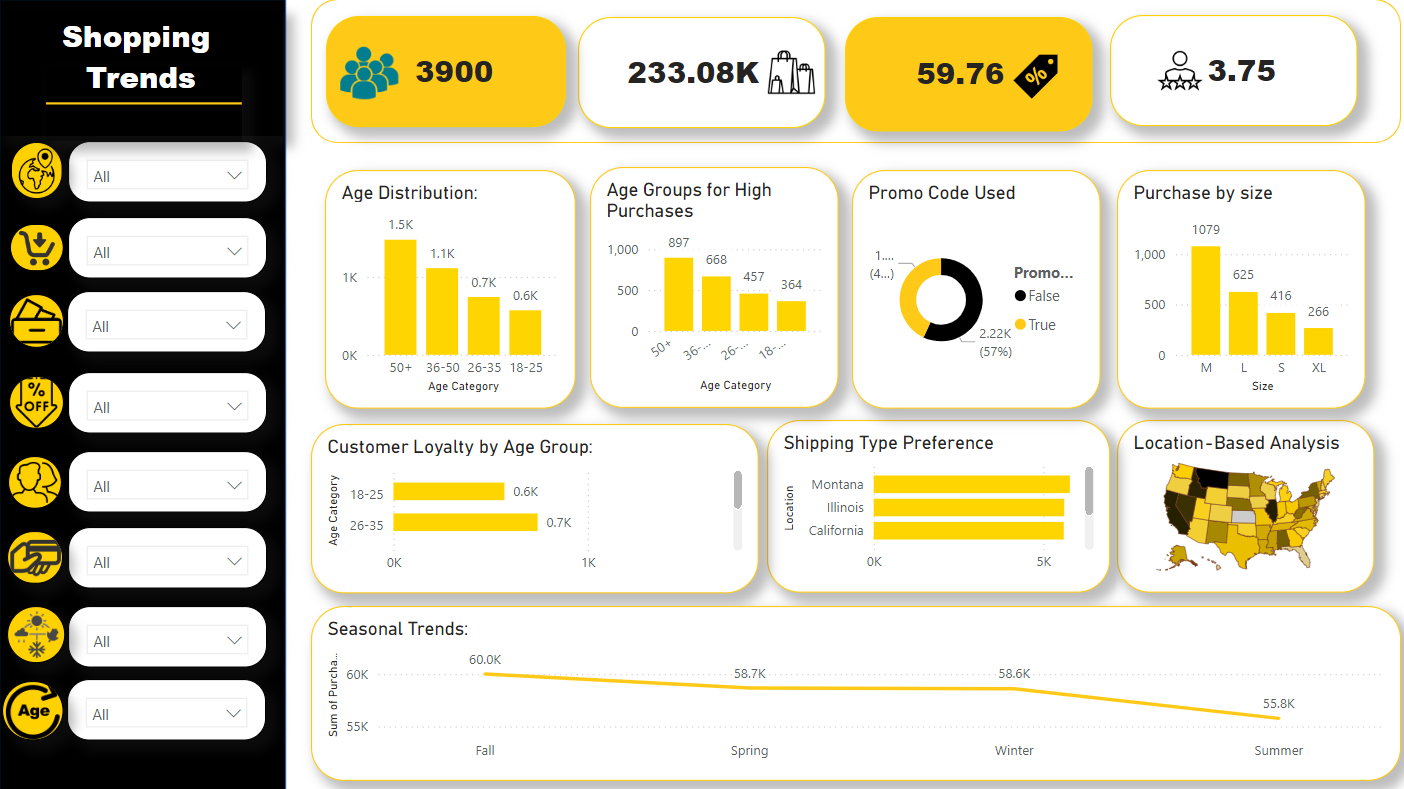

Layout of this report page (visuals, bound fields, positions):
{"tool":"powerbi","page":{"name":"Dashboard","canvas":[1280,720],"ordinal":0},"visuals":[{"type":"shape","box":[284,0,991,131],"z":0},{"type":"shape","box":[0,0,261,720],"z":1000},{"type":"textbox","box":[0,10,258.2,115.5],"z":2000},{"type":"slicer","fields":{"Values":["ShoppingTrends.Location"]},"box":[63,129,181,56],"z":3000},{"type":"image","box":[12,131,45,50],"z":4000},{"type":"slicer","fields":{"Values":["ShoppingTrends.Item_Purchased"]},"box":[63,198,181,56],"z":5000},{"type":"image","box":[11,205,47,41],"z":6000},{"type":"slicer","fields":{"Values":["ShoppingTrends.Category"]},"box":[62,265,181,56],"z":7000},{"type":"image","box":[9,268,50,49],"z":8000},{"type":"slicer","fields":{"Values":["ShoppingTrends.Discount_Applied"]},"box":[63,339,181,56],"z":9000},{"type":"image","box":[9,343,50,48],"z":10000},{"type":"slicer","fields":{"Values":["ShoppingTrends.Gender"]},"box":[63,411,181,56],"z":11000},{"type":"image","box":[8,415,49,48],"z":12000},{"type":"slicer","fields":{"Values":["ShoppingTrends.Payment_Method"]},"box":[63,480,181,56],"z":13000},{"type":"image","box":[7,484,51,48],"z":14000},{"type":"slicer","fields":{"Values":["ShoppingTrends.Season","ShoppingTrends.Age Category"]},"box":[63,552,181,56],"z":15000},{"type":"image","box":[7,552,53,52],"z":16000},{"type":"slicer","fields":{"Values":["ShoppingTrends.Age Category"]},"box":[62,618,181,56],"z":17000},{"type":"image","box":[3,620,56,54],"z":18000},{"type":"card","fields":{"Values":["ShoppingTrends.Total Purchase Amount"]},"box":[526,16,225,101],"z":19000},{"type":"card","fields":{"Values":["CountNonNull(ShoppingTrends.Customer_ID)"]},"box":[297,15,218,101],"z":20000},{"type":"image","box":[294,35,85,63],"z":21000},{"type":"image","box":[691,40,58,53],"z":22000},{"type":"card","fields":{"Values":["Avg(ShoppingTrends.Review_Ratings)"]},"box":[1010,14.5,224.5,100.9],"z":23000},{"type":"card","fields":{"Values":["Avg(ShoppingTrends.Purchase_Amount(USD))"]},"box":[769.1,16.4,224.5,103.6],"z":24000},{"type":"shapeMap","title":"Location-Based Analysis","fields":{"Category":["ShoppingTrends.Location"],"Value":["Sum(ShoppingTrends.Purchase_Amount(USD))"]},"box":[1016,383,234,157],"z":25000},{"type":"barChart","title":"Shipping Type Preference","fields":{"Category":["ShoppingTrends.Location"],"Y":["Sum(ShoppingTrends.Purchase_Amount(USD))"]},"box":[698,383,312,157],"z":26000},{"type":"shape","box":[43,61,178,68],"z":27000},{"type":"columnChart","title":"Age Distribution:","fields":{"Category":["ShoppingTrends.Age Category"],"Y":["CountNonNull(ShoppingTrends.Customer_ID)"]},"box":[296,155,228,217],"z":28000},{"type":"lineClusteredColumnComboChart","title":"Age Groups for High Purchases","fields":{"Category":["ShoppingTrends.Age Category"],"Y":["ShoppingTrends.HighValue_Purchases"]},"box":[537,153,226,219],"z":29000},{"type":"clusteredBarChart","title":"Customer Loyalty by Age Group:","fields":{"Category":["ShoppingTrends.Age Category"],"Y":["CountNonNull(ShoppingTrends.Previous_Purchases)"]},"box":[284,386,407,154],"z":30000},{"type":"lineChart","title":"Seasonal Trends:","fields":{"Category":["ShoppingTrends.Season"],"Y":["Sum(ShoppingTrends.Purchase_Amount(USD))"]},"box":[284,552,991,159],"z":31000},{"type":"donutChart","title":"Promo Code Used ","fields":{"Category":["ShoppingTrends.Promo_Code_Used"],"Y":["CountNonNull(ShoppingTrends.Purchase_Amount(USD))"]},"box":[775,155,226,217],"z":32000},{"type":"lineClusteredColumnComboChart","title":"Purchase by size","fields":{"Category":["ShoppingTrends.Size"],"Y":["ShoppingTrends.HighValue_Purchases"]},"box":[1016,155,226,217],"z":33000},{"type":"image","box":[1048.2,38.2,50.9,54.5],"z":33001},{"type":"image","box":[917.3,43.6,50,54.5],"z":33002}]}

Visuals, with their boxes in screenshot pixels (x1, y1, x2, y2), scaled from the page's 1280x720 canvas onto the 1404x789 screenshot:
shape: pyautogui.locateOnScreen(312, 0, 1399, 144)
shape: pyautogui.locateOnScreen(0, 0, 286, 788)
textbox: pyautogui.locateOnScreen(0, 11, 283, 138)
slicer - ShoppingTrends.Location: pyautogui.locateOnScreen(69, 141, 268, 203)
image: pyautogui.locateOnScreen(13, 144, 63, 198)
slicer - ShoppingTrends.Item_Purchased: pyautogui.locateOnScreen(69, 217, 268, 278)
image: pyautogui.locateOnScreen(12, 225, 64, 270)
slicer - ShoppingTrends.Category: pyautogui.locateOnScreen(68, 290, 267, 352)
image: pyautogui.locateOnScreen(10, 294, 65, 347)
slicer - ShoppingTrends.Discount_Applied: pyautogui.locateOnScreen(69, 371, 268, 433)
image: pyautogui.locateOnScreen(10, 376, 65, 428)
slicer - ShoppingTrends.Gender: pyautogui.locateOnScreen(69, 450, 268, 512)
image: pyautogui.locateOnScreen(9, 455, 63, 507)
slicer - ShoppingTrends.Payment_Method: pyautogui.locateOnScreen(69, 526, 268, 587)
image: pyautogui.locateOnScreen(8, 530, 64, 583)
slicer - ShoppingTrends.Season x ShoppingTrends.Age Category: pyautogui.locateOnScreen(69, 605, 268, 666)
image: pyautogui.locateOnScreen(8, 605, 66, 662)
slicer - ShoppingTrends.Age Category: pyautogui.locateOnScreen(68, 677, 267, 739)
image: pyautogui.locateOnScreen(3, 679, 65, 739)
card - ShoppingTrends.Total Purchase Amount: pyautogui.locateOnScreen(577, 18, 824, 128)
card - CountNonNull(ShoppingTrends.Customer_ID): pyautogui.locateOnScreen(326, 16, 565, 127)
image: pyautogui.locateOnScreen(322, 38, 416, 107)
image: pyautogui.locateOnScreen(758, 44, 822, 102)
card - Avg(ShoppingTrends.Review_Ratings): pyautogui.locateOnScreen(1108, 16, 1354, 126)
card - Avg(ShoppingTrends.Purchase_Amount(USD)): pyautogui.locateOnScreen(844, 18, 1090, 132)
"Location-Based Analysis" shapeMap: pyautogui.locateOnScreen(1114, 420, 1371, 592)
"Shipping Type Preference" barChart: pyautogui.locateOnScreen(766, 420, 1108, 592)
shape: pyautogui.locateOnScreen(47, 67, 242, 141)
"Age Distribution:" columnChart: pyautogui.locateOnScreen(325, 170, 575, 408)
"Age Groups for High Purchases" lineClusteredColumnComboChart: pyautogui.locateOnScreen(589, 168, 837, 408)
"Customer Loyalty by Age Group:" clusteredBarChart: pyautogui.locateOnScreen(312, 423, 758, 592)
"Seasonal Trends:" lineChart: pyautogui.locateOnScreen(312, 605, 1399, 779)
"Promo Code Used " donutChart: pyautogui.locateOnScreen(850, 170, 1098, 408)
"Purchase by size" lineClusteredColumnComboChart: pyautogui.locateOnScreen(1114, 170, 1362, 408)
image: pyautogui.locateOnScreen(1150, 42, 1206, 102)
image: pyautogui.locateOnScreen(1006, 48, 1061, 108)
